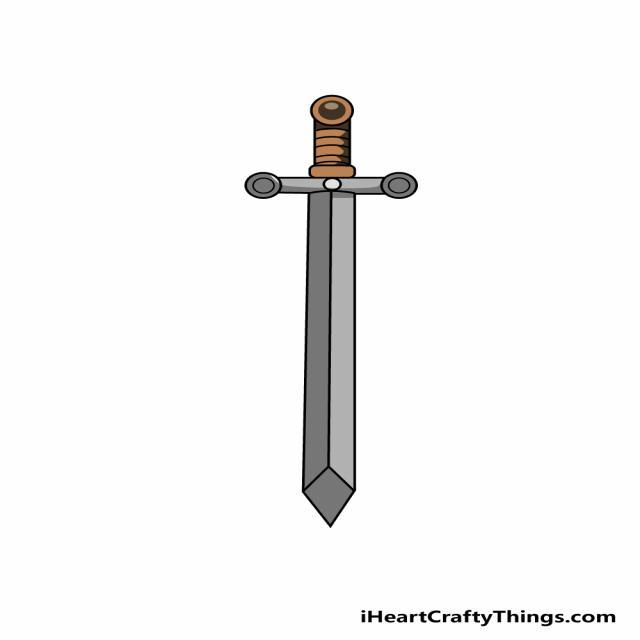sword: (218, 88, 431, 540)
